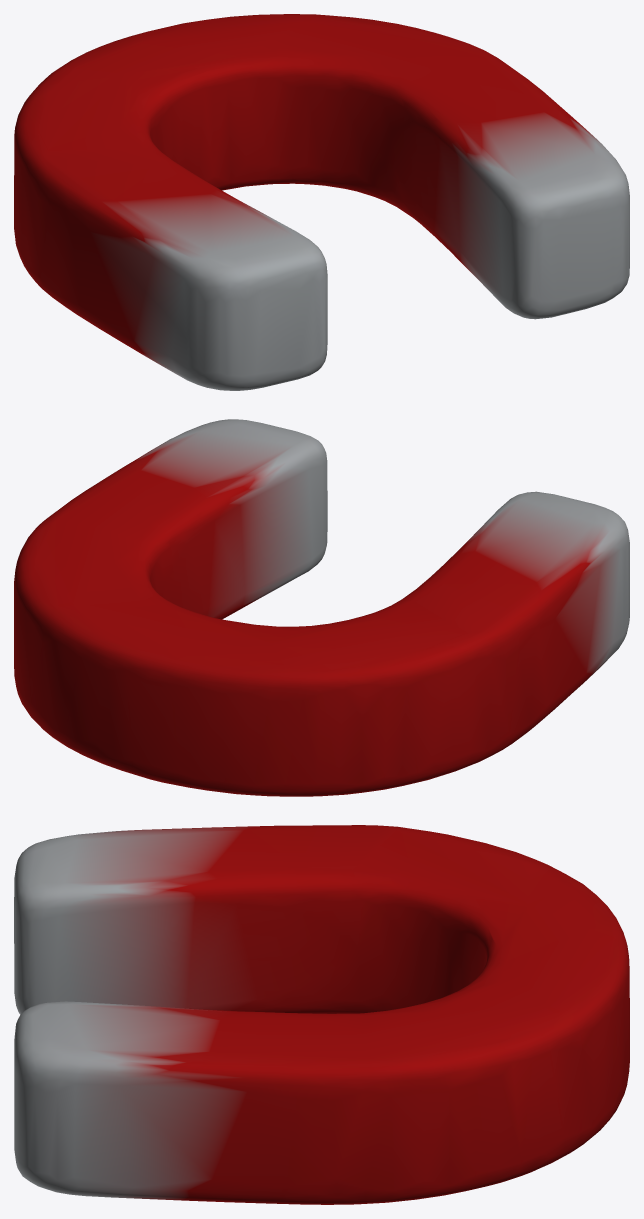
Rendered from meshy-magnet.glb.
3 views of the same model, one above another, from view 1: azimuth 30°, elevation 25°; view 2: azimuth 150°, elevation 25°; view 3: azimuth 270°, elevation 25° (orthographic). The views are drawn at different scales.
Parts seen in each view (by area): view 1: Mesh_0; view 2: Mesh_0; view 3: Mesh_0.
Part boxes in pixels (bbox=[...]): Mesh_0: bbox=[14, 14, 629, 390]; Mesh_0: bbox=[14, 419, 629, 796]; Mesh_0: bbox=[14, 825, 629, 1204].
Size of the model in its own units: 1.85 by 0.4841 by 1.9.
